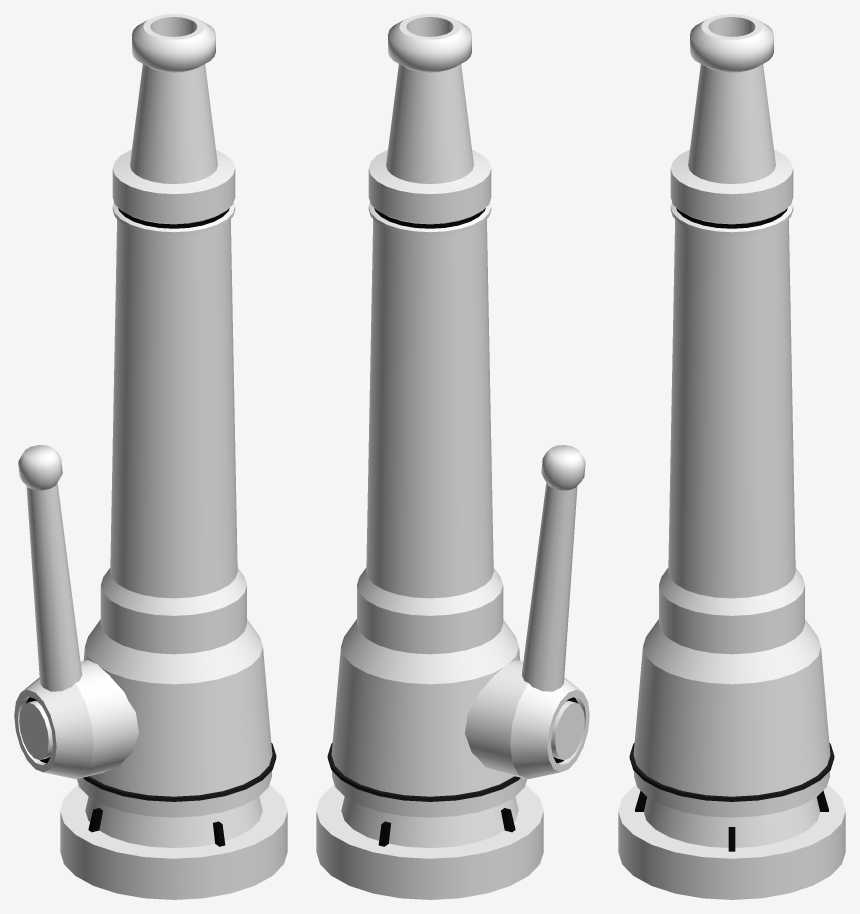
Rendered from Wea_GaoYaShuiQiang_1X4_on.FBX.
3 views of the same model, side by side, from view 1: azimuth 30°, elevation 25°; view 2: azimuth 150°, elevation 25°; view 3: azimuth 270°, elevation 25° (orthographic).
Visible parts, largest first — view 1: Box001; view 2: Box001; view 3: Box001.
Part boxes in pixels (left/top/right/bottom): Box001: left=14, top=14, right=287, bottom=899; Box001: left=316, top=14, right=589, bottom=899; Box001: left=618, top=14, right=845, bottom=899.
Bounding box in the file's own units: 1.28 × 4 × 1.
